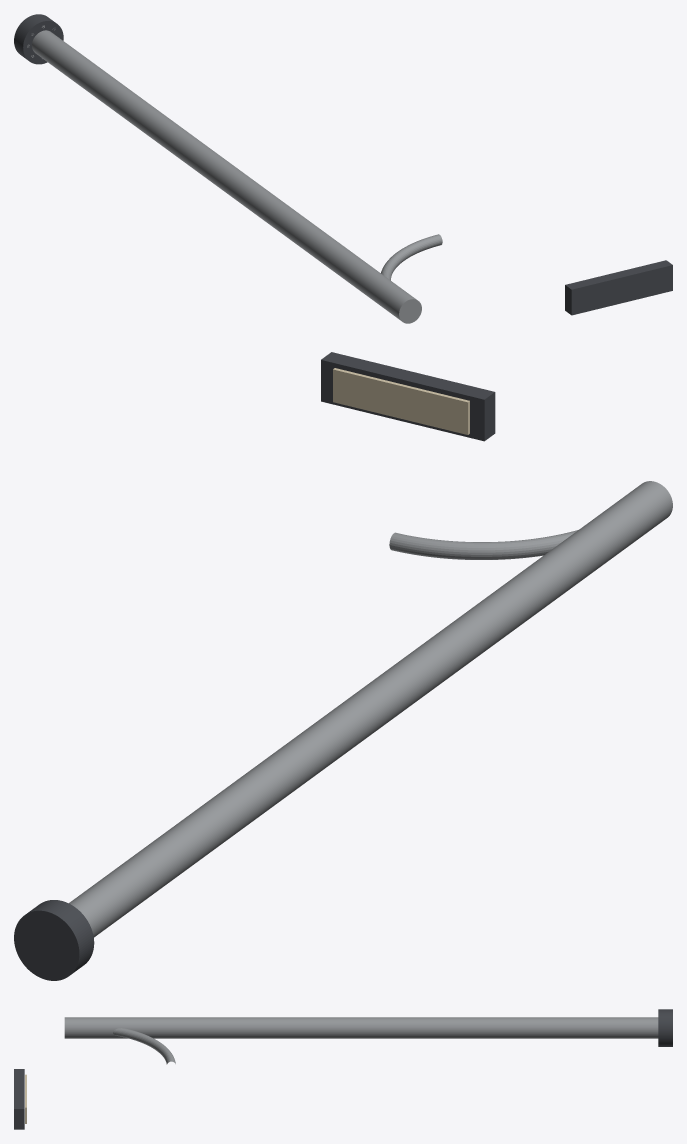
Rendered from SM_Yilan_StreetLight_8m_HQ.glb.
3 views of the same model, one above another, from view 1: azimuth 30°, elevation 25°; view 2: azimuth 150°, elevation 25°; view 3: azimuth 270°, elevation 25° (orthographic). The views are drawn at different scales.
Visible parts, largest first — view 1: pole, luminaire, base_plate, curved_arm; view 2: pole, base_plate, led_panel, luminaire, curved_arm; view 3: pole, luminaire, curved_arm, base_plate.
Boxes of the visible parts, <box> form: pole: <box>32,30,421,323</box>; luminaire: <box>565,260,672,315</box>; base_plate: <box>14,14,63,64</box>; curved_arm: <box>381,234,442,280</box>; pole: <box>69,481,672,937</box>; base_plate: <box>14,900,94,980</box>; led_panel: <box>333,368,469,434</box>; luminaire: <box>321,352,495,441</box>; curved_arm: <box>389,530,577,559</box>; pole: <box>64,1017,658,1038</box>; luminaire: <box>14,1069,24,1129</box>; curved_arm: <box>113,1028,175,1064</box>; base_plate: <box>658,1009,672,1046</box>.
Bounding box in the file's own units: 2.86 × 0.46 × 8.02.
